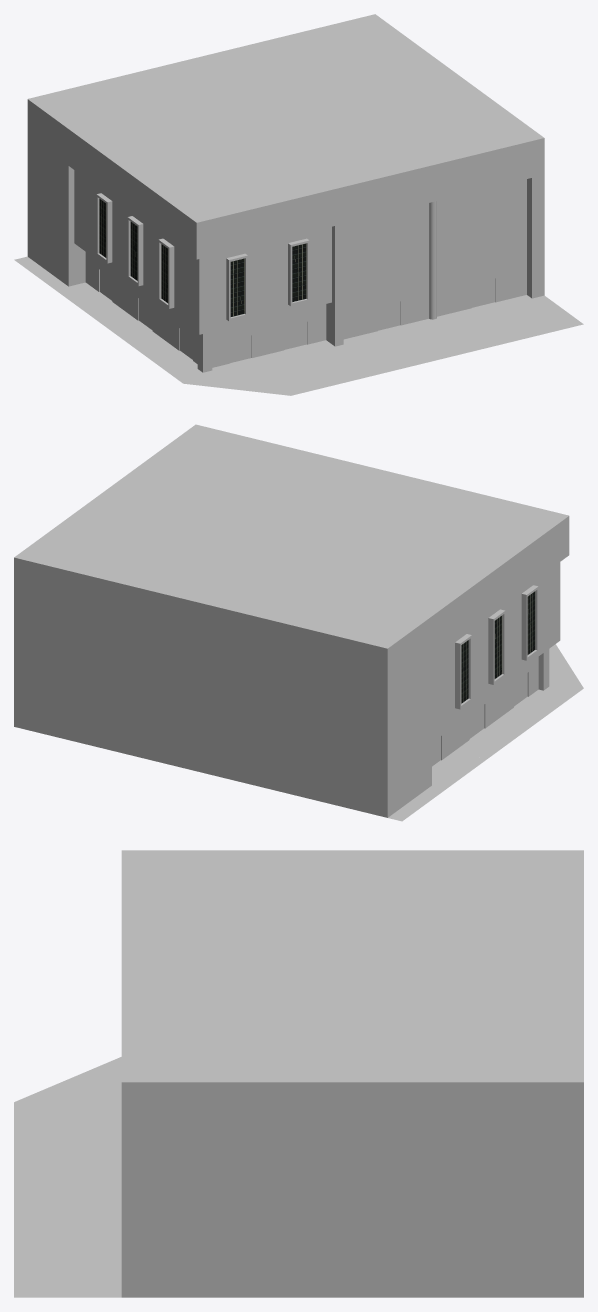
The picture shows the model from 3 angles, top to bottom: view 1: azimuth 30°, elevation 25°; view 2: azimuth 150°, elevation 25°; view 3: azimuth 270°, elevation 25°; orthographic projection. The views are drawn at different scales.
Visible parts, largest first — view 1: EB-013; view 2: EB-013; view 3: EB-013.
Boxes of the visible parts, x1,y1,x2,y2 form: EB-013: (14, 14, 583, 395); EB-013: (14, 424, 583, 821); EB-013: (14, 850, 583, 1297).
Size of what is drawn, in the model's own units: 36 by 15 by 36.
